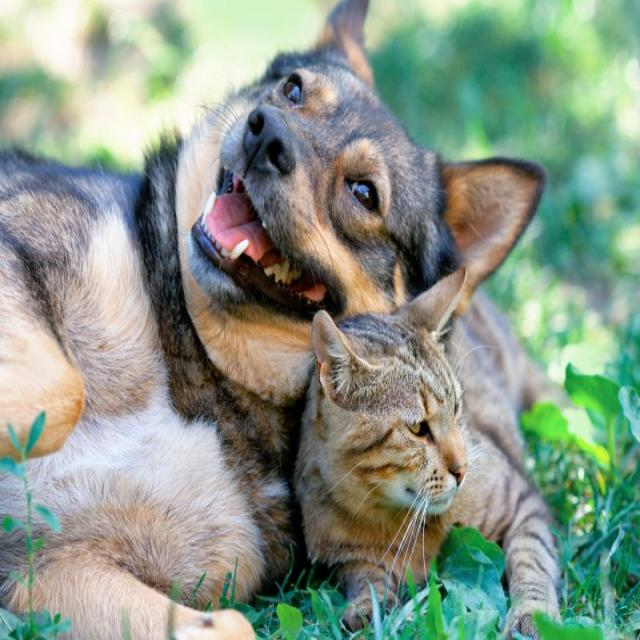cat: (310, 310, 576, 640)
dog: (2, 3, 548, 634)
